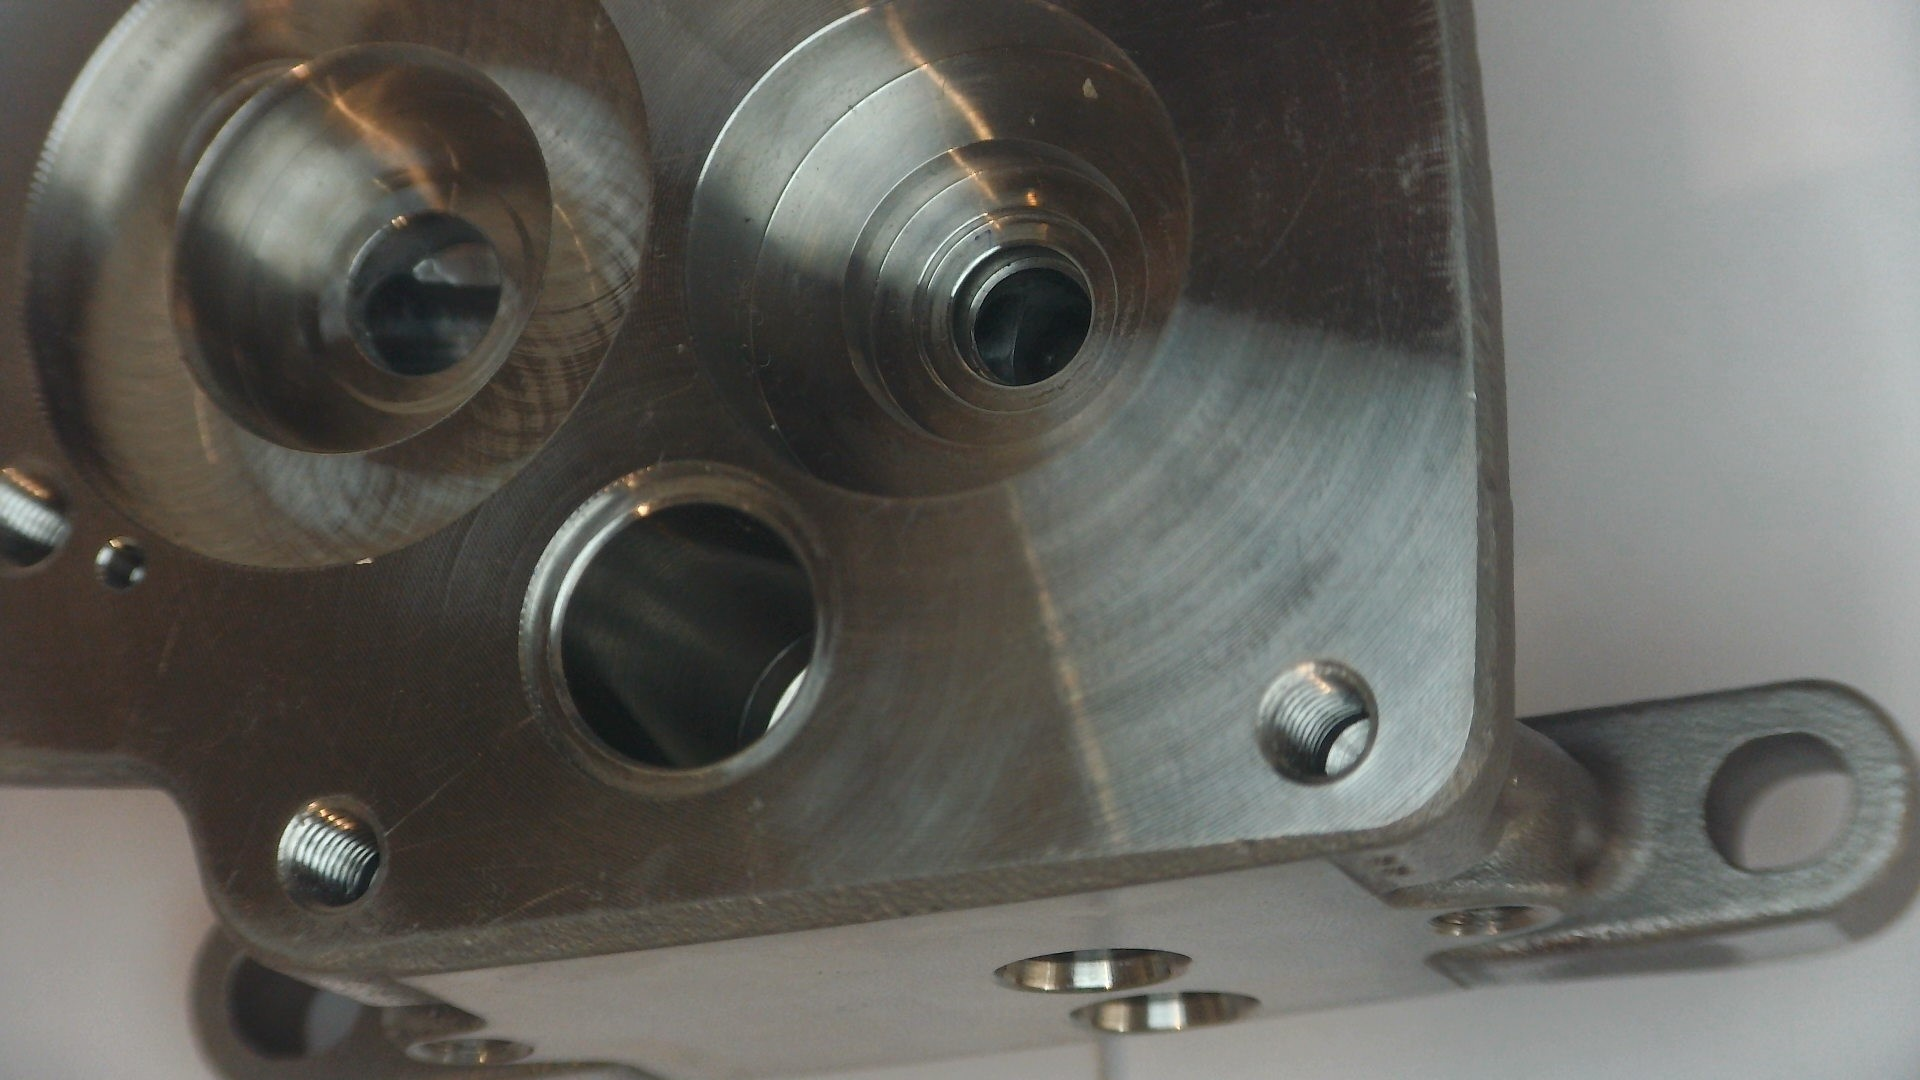thread_presence: (1254, 658, 1371, 785), (277, 796, 380, 909), (1, 465, 69, 551)
